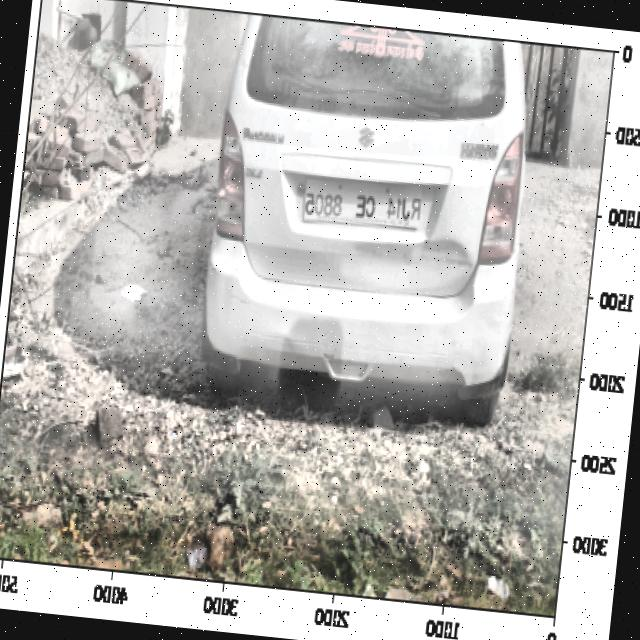license_plate: (297, 177, 428, 238)
